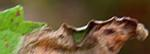Tomato leaf late blight: (0, 0, 148, 54)
